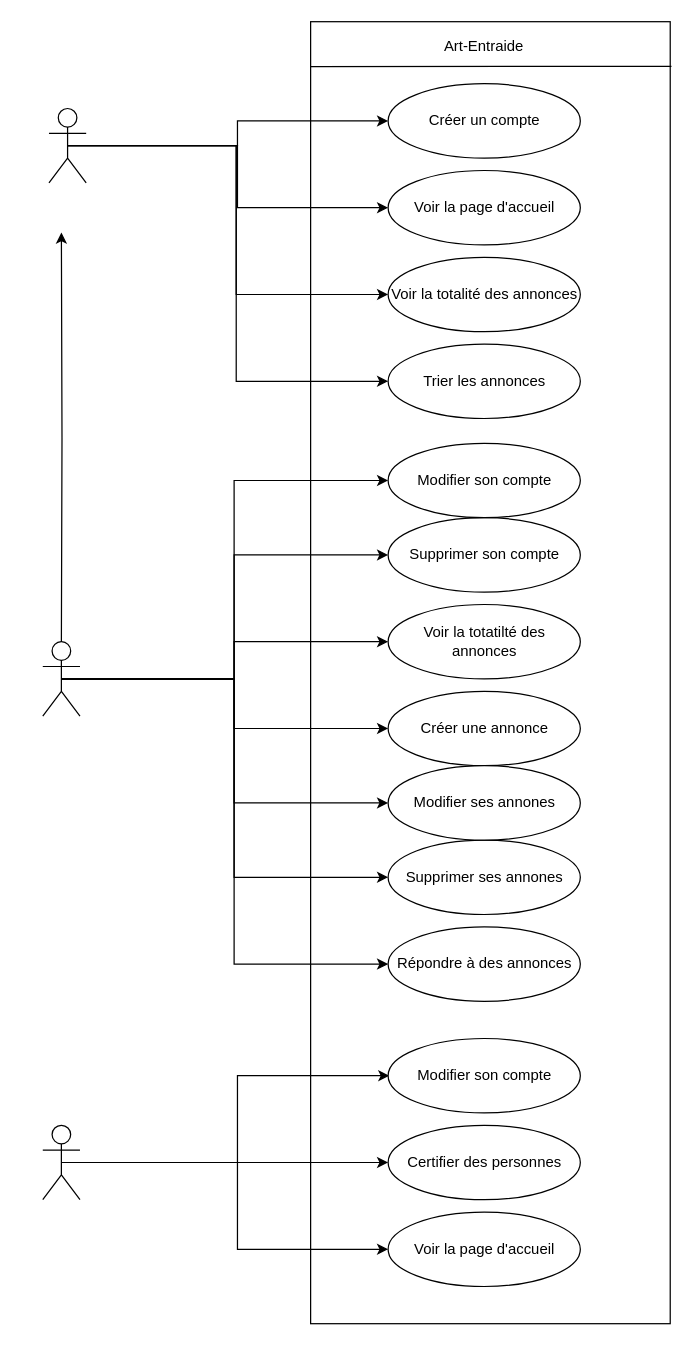
Some shapes in this 694 by 1345 pixel diagram are drawn without their labels. The box of each missing label's shape, as (x1, y1, x2, y2) in pixels:
Certificateur: (42, 1124, 80, 1200)
Inscrit: (42, 640, 80, 716)
Pas inscrit: (48, 107, 86, 183)
